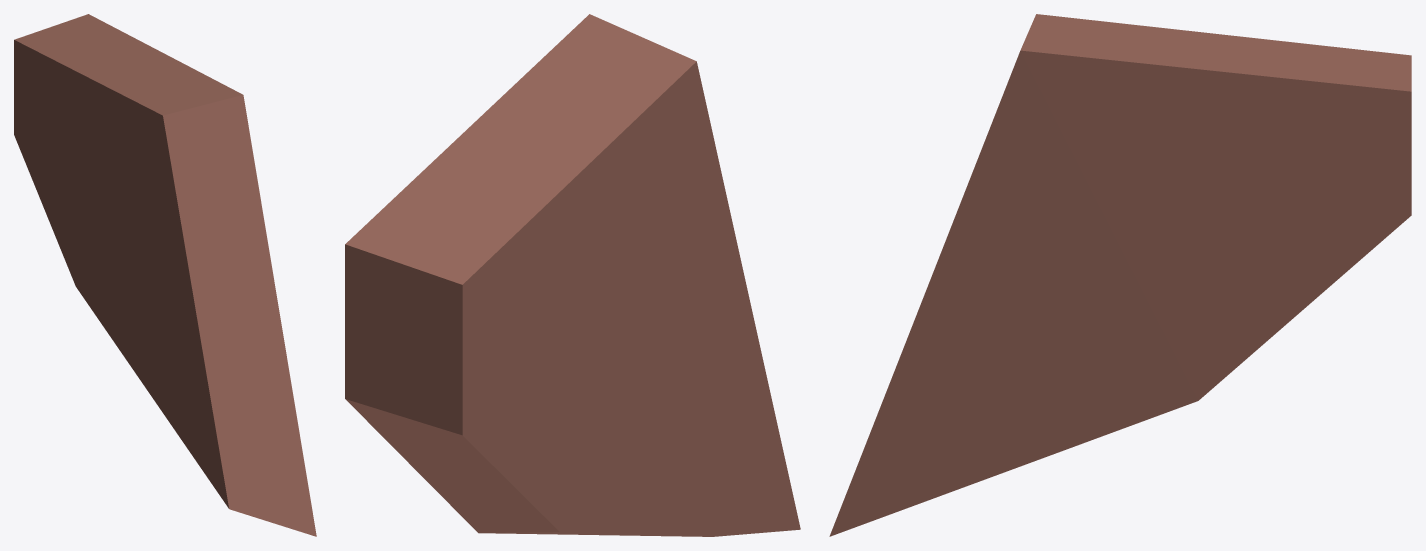
File: T_MurDetruit_6.1.fbx
3 renders of one model, left to right at view 1: azimuth 30°, elevation 25°; view 2: azimuth 150°, elevation 25°; view 3: azimuth 270°, elevation 25°, orthographic. The views are drawn at different scales.
Visible parts, largest first — view 1: T_MurDetruit_6.1; view 2: T_MurDetruit_6.1; view 3: T_MurDetruit_6.1.
Part boxes in pixels (x1,y1,x2,y2): T_MurDetruit_6.1: [14, 14, 316, 536]; T_MurDetruit_6.1: [345, 14, 800, 536]; T_MurDetruit_6.1: [829, 14, 1411, 536].
Bounding box in the file's own units: 13.48 × 66.86 × 72.34.
